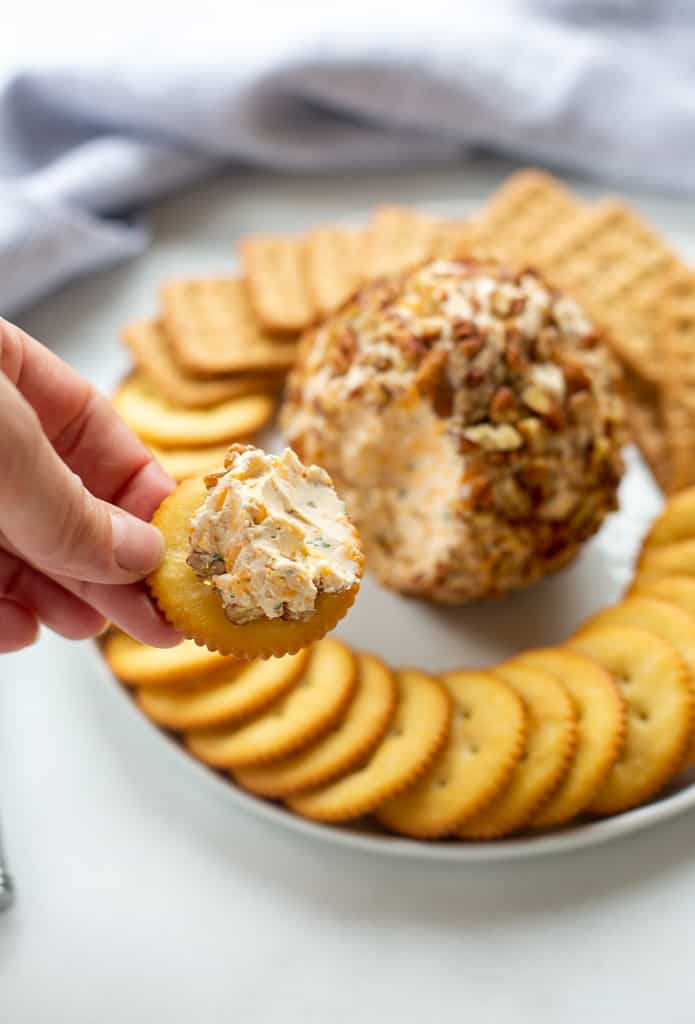cheese: (162, 410, 370, 652)
